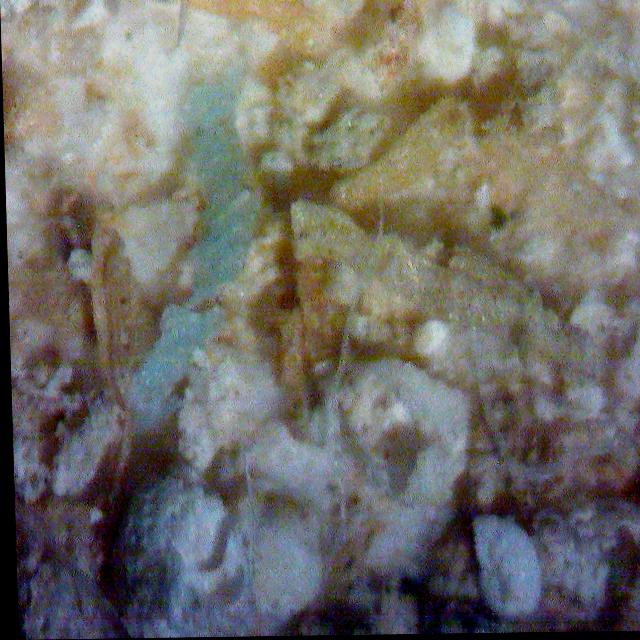microplastic: (47, 64, 261, 504)
